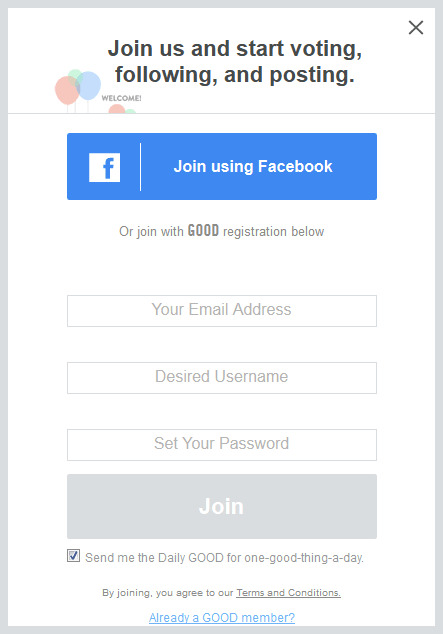_form_: (1, 127, 416, 543), (40, 404, 402, 623)
button: (65, 473, 377, 542), (66, 132, 377, 200)
checkbox: (65, 548, 85, 564)
checkbox_with_label: (60, 547, 364, 566)
field: (65, 362, 379, 395), (65, 429, 377, 462), (66, 294, 377, 327)
